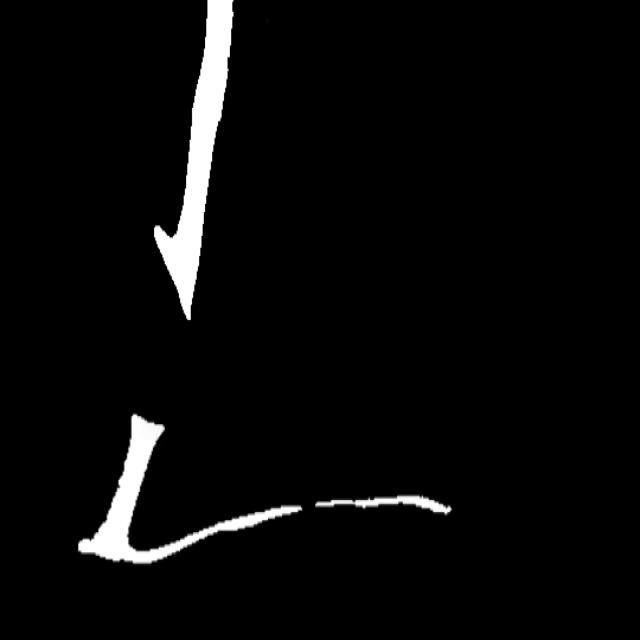sup: (294, 494, 326, 522)
